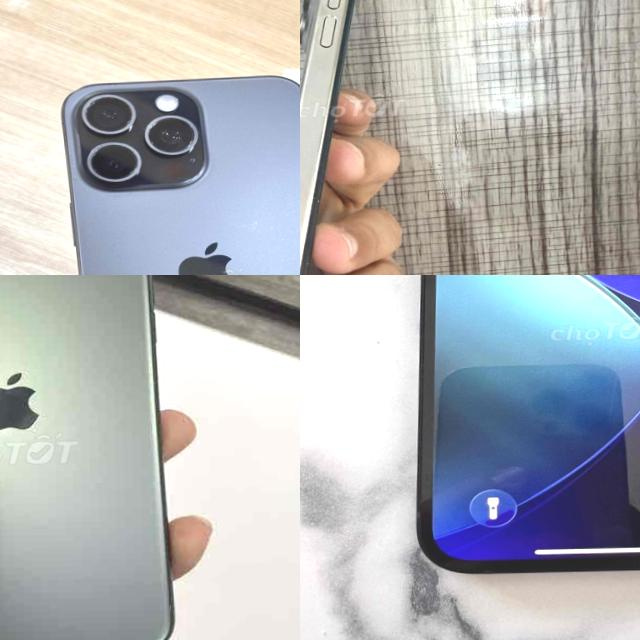scratch: (70, 90, 206, 188), (230, 206, 300, 275)
